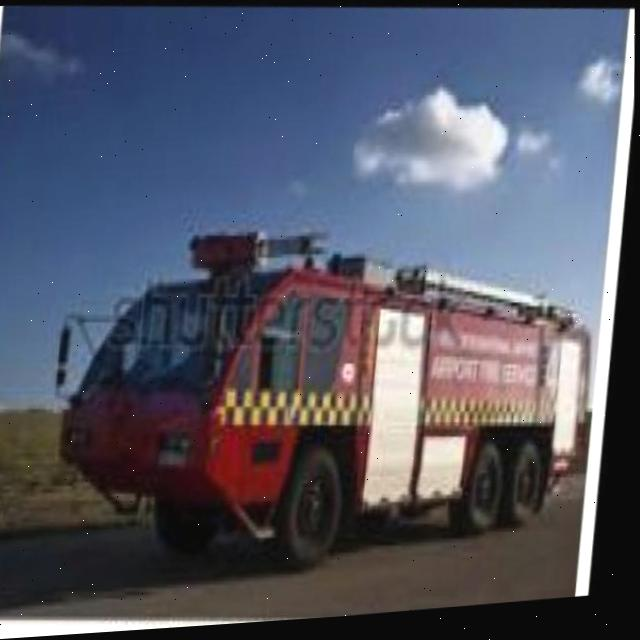emergency: (50, 205, 601, 590)
